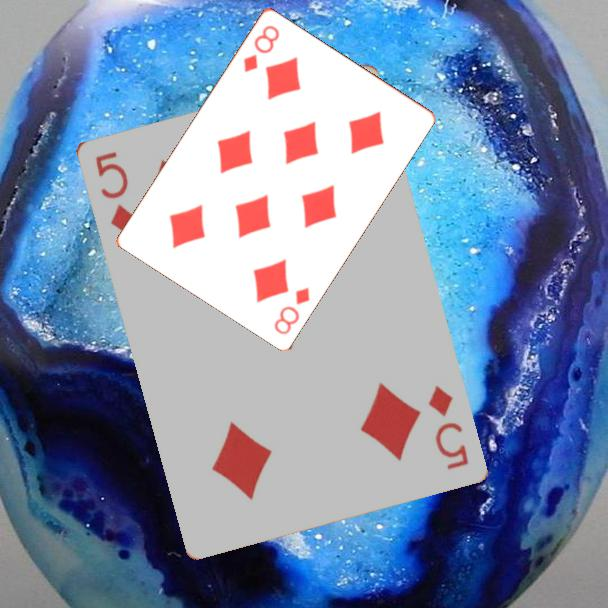d05: (91, 148, 138, 238), (424, 382, 471, 472)
d08: (239, 21, 282, 75), (270, 283, 313, 337)
